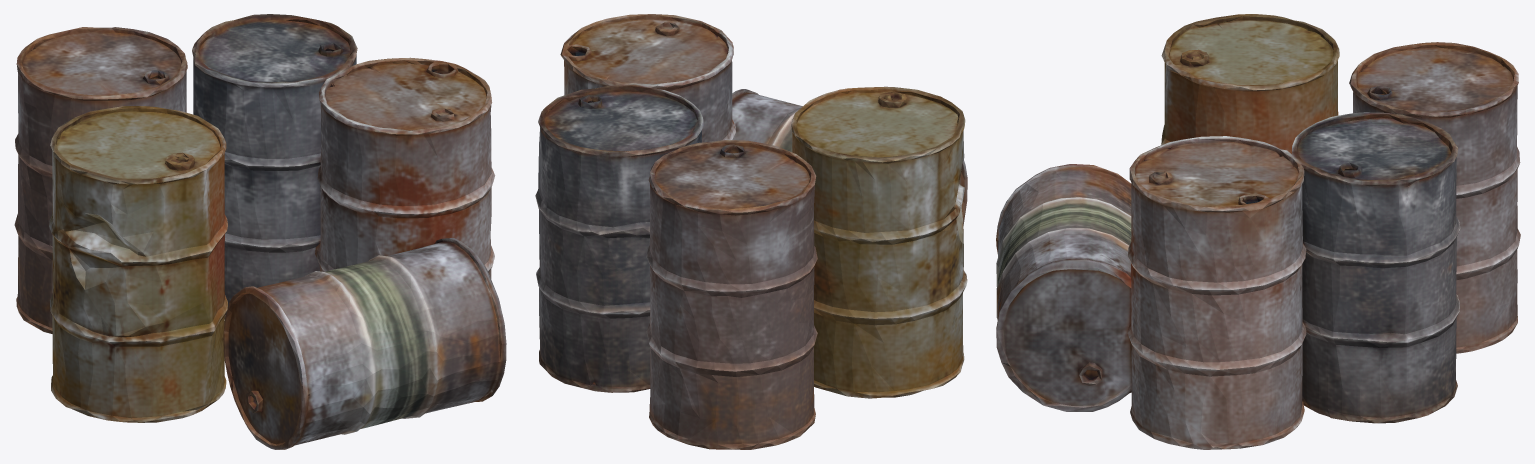
File: barrels.obj
3 renders of one model, left to right at view 1: azimuth 30°, elevation 25°; view 2: azimuth 150°, elevation 25°; view 3: azimuth 270°, elevation 25°, orthographic.
Visible parts, largest first — view 1: barrels; view 2: barrels; view 3: barrels.
Boxes of the visible parts, box(x1,y1,x2,y2) form: barrels: box(14, 14, 506, 449); barrels: box(535, 14, 967, 449); barrels: box(996, 14, 1520, 449).
Bounding box in the file's own units: 1.77 × 1.05 × 2.
Materials: 1 (1 with a texture image).
